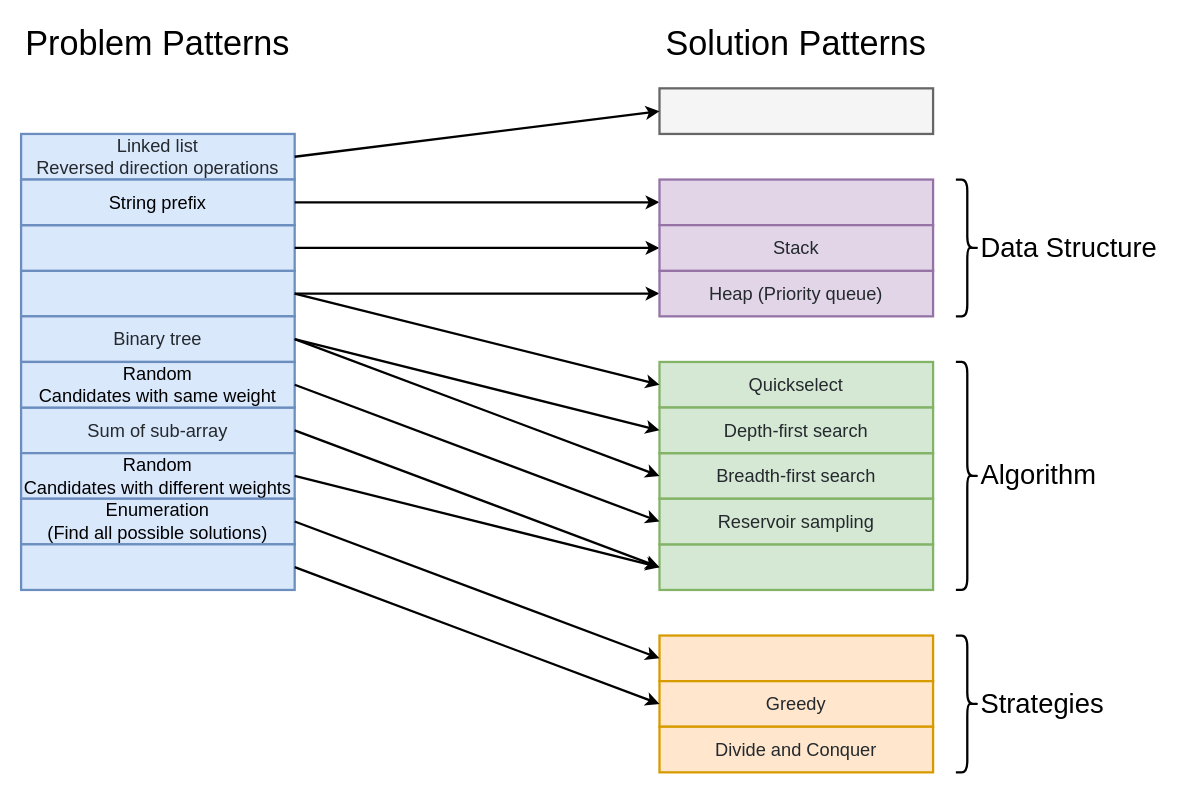
Image size: 1180x792. Some labels were removed from this diagram. Here are the shapes that lost their labels. From the top down, the centre of each, then its label:
At (x=796, y=111): "Recursion".
At (x=796, y=202): "Trie".
At (x=157, y=247): "Symmetry (Parentheses, Palindrome )".
At (x=157, y=293): "Top K and Kth".
At (x=157, y=567): "Optimization (Find max/min/longest)".
At (x=796, y=567): "Prefix sum array".
At (x=796, y=658): "Backtracking".
